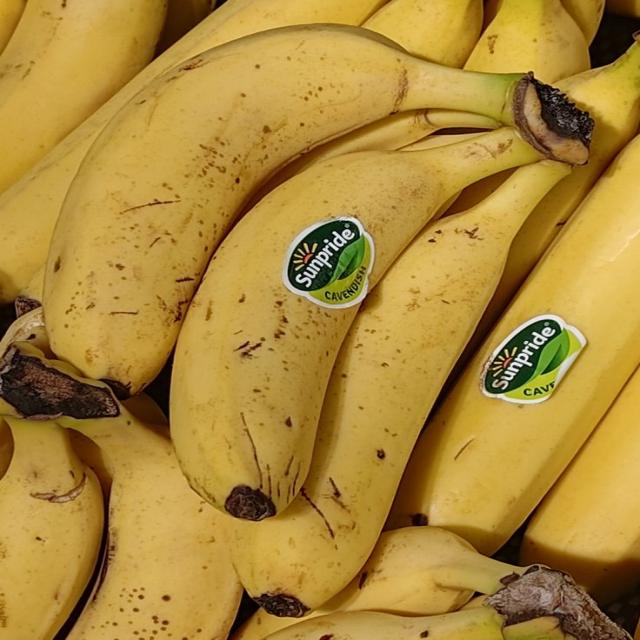unpeal banana: (43, 25, 548, 395), (227, 161, 570, 615), (170, 127, 544, 519), (0, 0, 383, 303), (388, 137, 639, 553), (0, 341, 241, 639), (456, 43, 639, 370), (59, 406, 241, 639), (0, 0, 166, 192), (520, 370, 639, 606), (267, 566, 630, 639), (245, 109, 499, 210), (0, 417, 104, 639), (305, 527, 525, 618), (464, 0, 590, 82), (362, 0, 482, 67), (156, 0, 214, 55), (561, 0, 605, 44), (14, 264, 44, 316), (0, 0, 26, 53), (604, 0, 639, 17)
